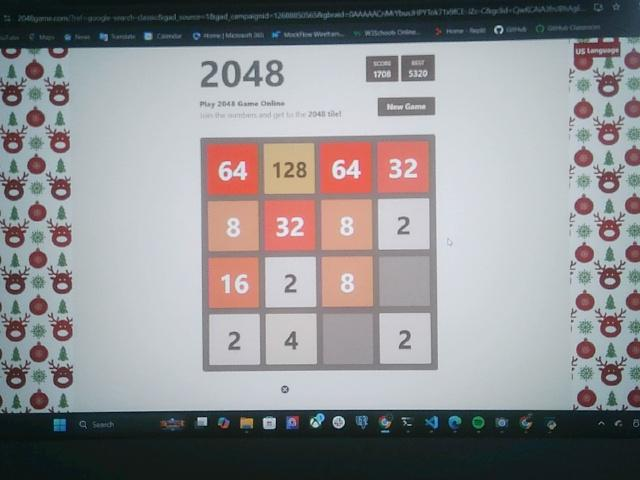board: (201, 137, 437, 370)
tile: (379, 313, 433, 365), (265, 257, 318, 309), (320, 142, 372, 194), (264, 200, 316, 252), (321, 200, 374, 251), (207, 143, 259, 193), (377, 143, 429, 193), (208, 201, 260, 251), (209, 315, 261, 365), (266, 315, 318, 365), (265, 143, 316, 193), (208, 258, 259, 308), (324, 257, 374, 308), (379, 200, 429, 249)
